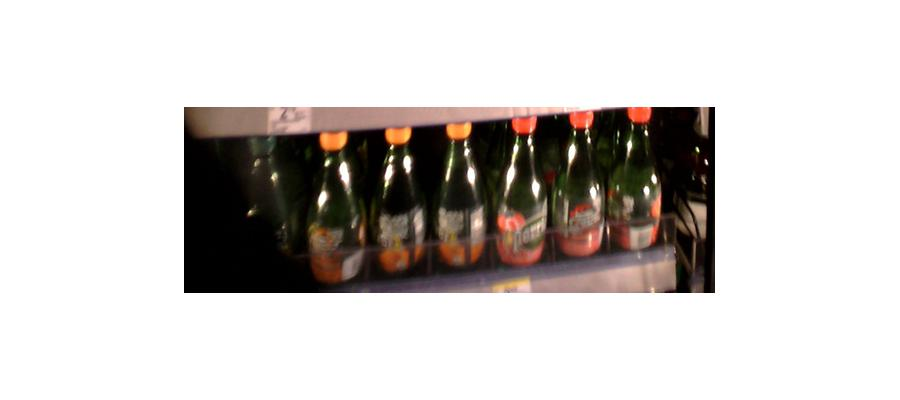bottle: (307, 128, 365, 285), (370, 122, 426, 281), (549, 110, 606, 262), (607, 106, 663, 256), (494, 116, 548, 271), (431, 120, 485, 273), (250, 127, 309, 262)
